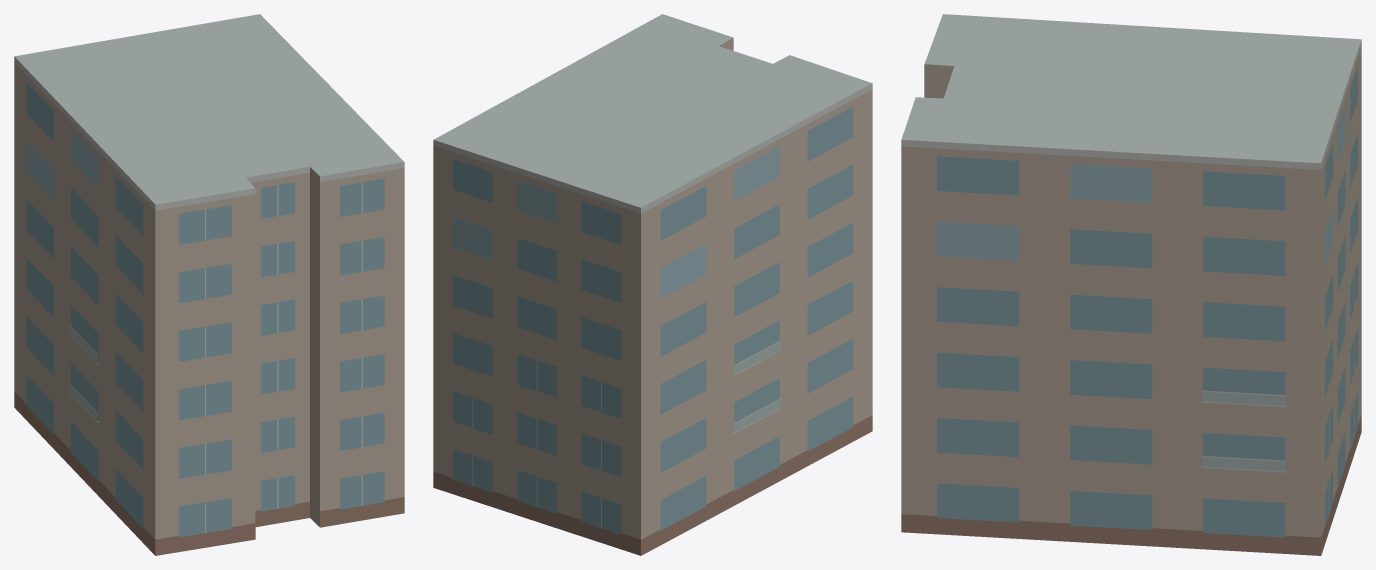
The model's file is survey-upis-32893374.glb.
3 renders of one model, left to right at view 1: azimuth 30°, elevation 25°; view 2: azimuth 150°, elevation 25°; view 3: azimuth 270°, elevation 25°, orthographic. The views are drawn at different scales.
Parts seen in each view (by area): view 1: survey-upis-32893374.tmp; view 2: survey-upis-32893374.tmp; view 3: survey-upis-32893374.tmp.
Part boxes in pixels (bbox=[...]): survey-upis-32893374.tmp: bbox=[14, 14, 404, 555]; survey-upis-32893374.tmp: bbox=[433, 14, 872, 555]; survey-upis-32893374.tmp: bbox=[901, 14, 1361, 555].
Size of the model in its own units: 11.89 by 14.55 by 15.47.
